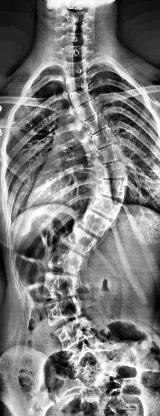Vertebrae: (46, 323, 110, 342), (30, 274, 84, 296), (36, 254, 92, 272), (38, 301, 92, 319), (54, 234, 106, 249), (66, 217, 122, 229), (78, 200, 134, 212), (91, 182, 133, 196), (88, 164, 132, 176), (66, 105, 110, 117), (81, 150, 132, 160), (76, 118, 115, 130), (56, 79, 98, 89), (59, 94, 105, 102), (86, 134, 120, 144)
